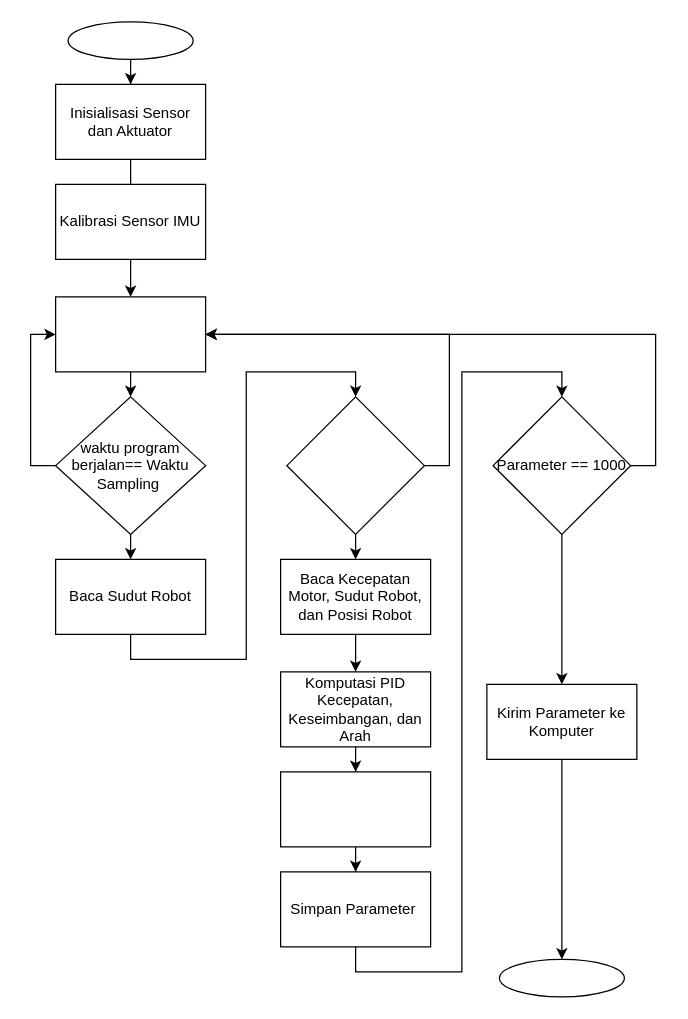
The diagram is 688 pixels wide and 1019 high, and some of its shapes have lost their labels. Each missing label, with the box of its shape:
Gerakkan Motor: (279, 771, 431, 847)
Hitung waktu program berjalan: (54, 296, 206, 372)
Mulai: (67, 21, 193, 59)
Selesai: (498, 958, 624, 997)
Sudut Robot == Vertikal: (286, 396, 424, 534)
